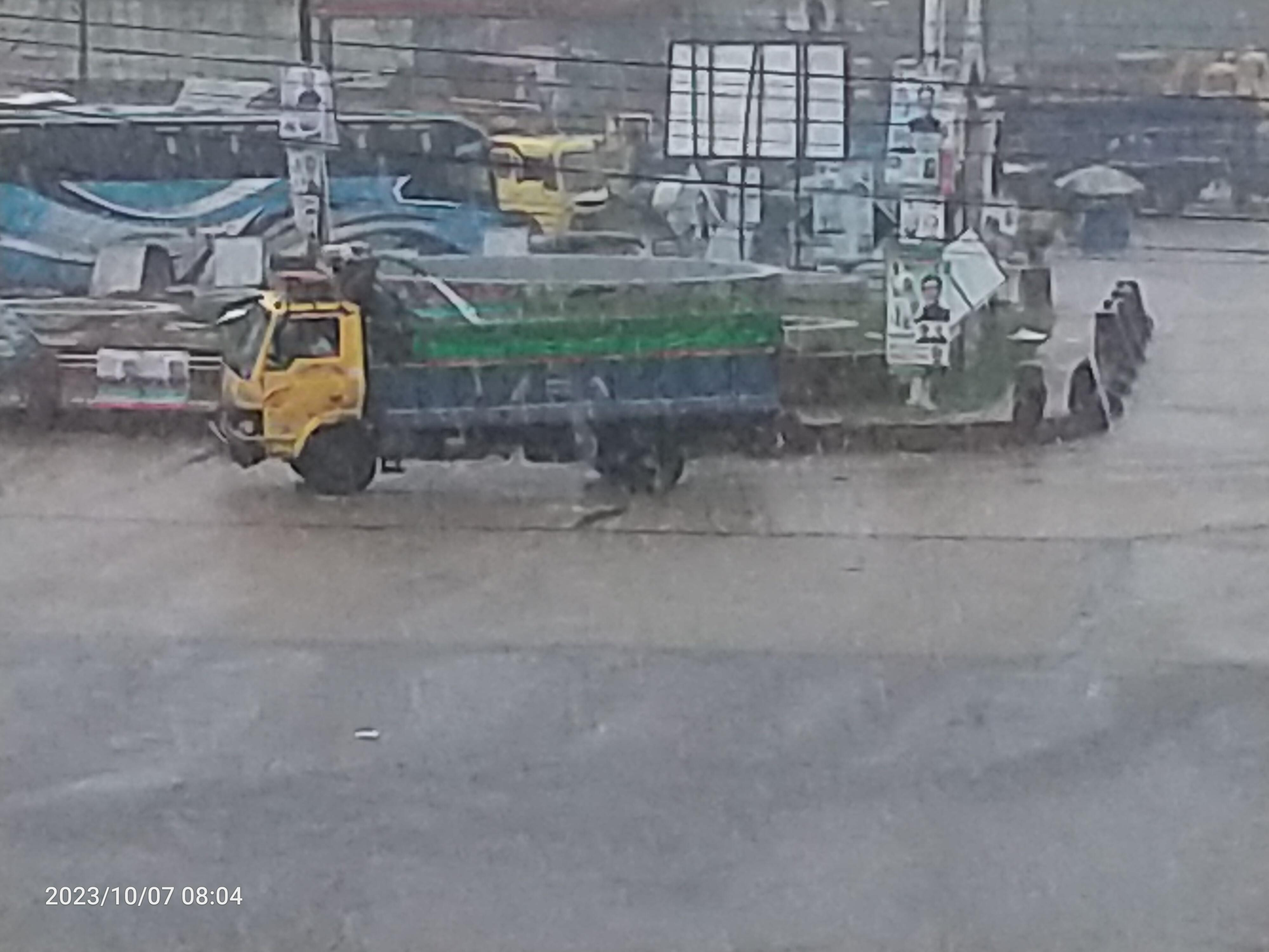Bus: (0, 86, 500, 296)
Truck: (200, 248, 831, 521), (934, 21, 1265, 254), (492, 90, 631, 252)
